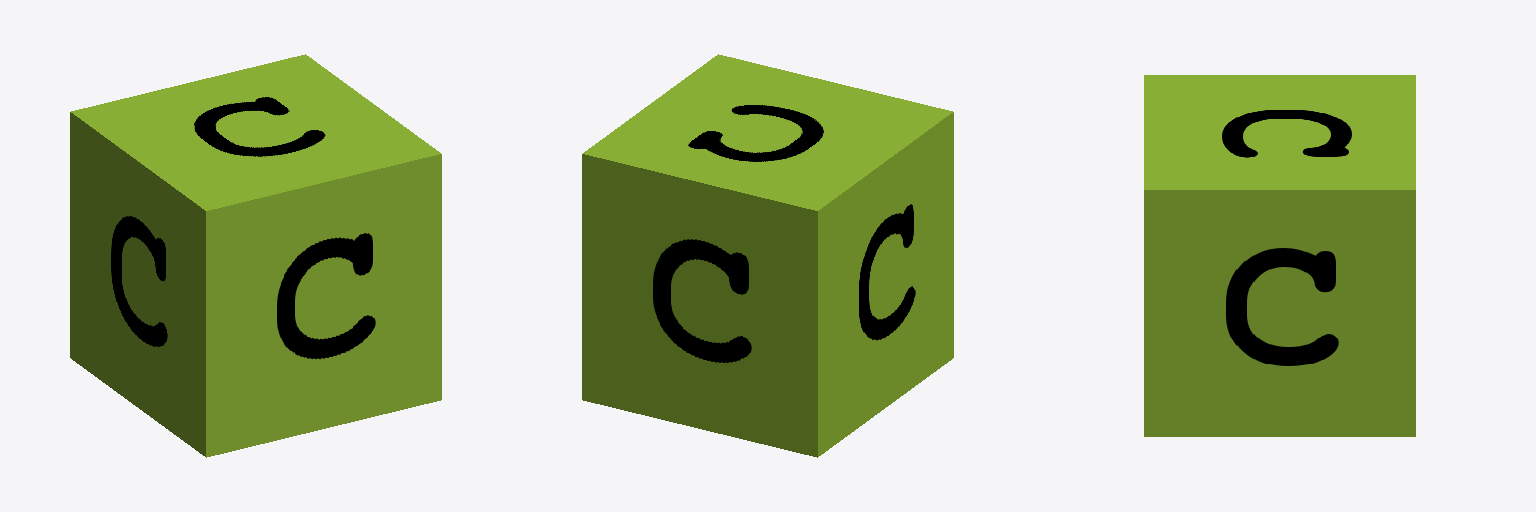
3 renders of one model, left to right at view 1: azimuth 30°, elevation 25°; view 2: azimuth 150°, elevation 25°; view 3: azimuth 270°, elevation 25°, orthographic.
Visible parts, largest first — view 1: cube; view 2: cube; view 3: cube.
Boxes of the visible parts, x1=… form: cube: x1=70, y1=54, x2=441, y2=457; cube: x1=582, y1=54, x2=953, y2=457; cube: x1=1144, y1=75, x2=1415, y2=436.
Bounding box in the file's own units: 1 × 1 × 1.
Materials: 1 (1 with a texture image).